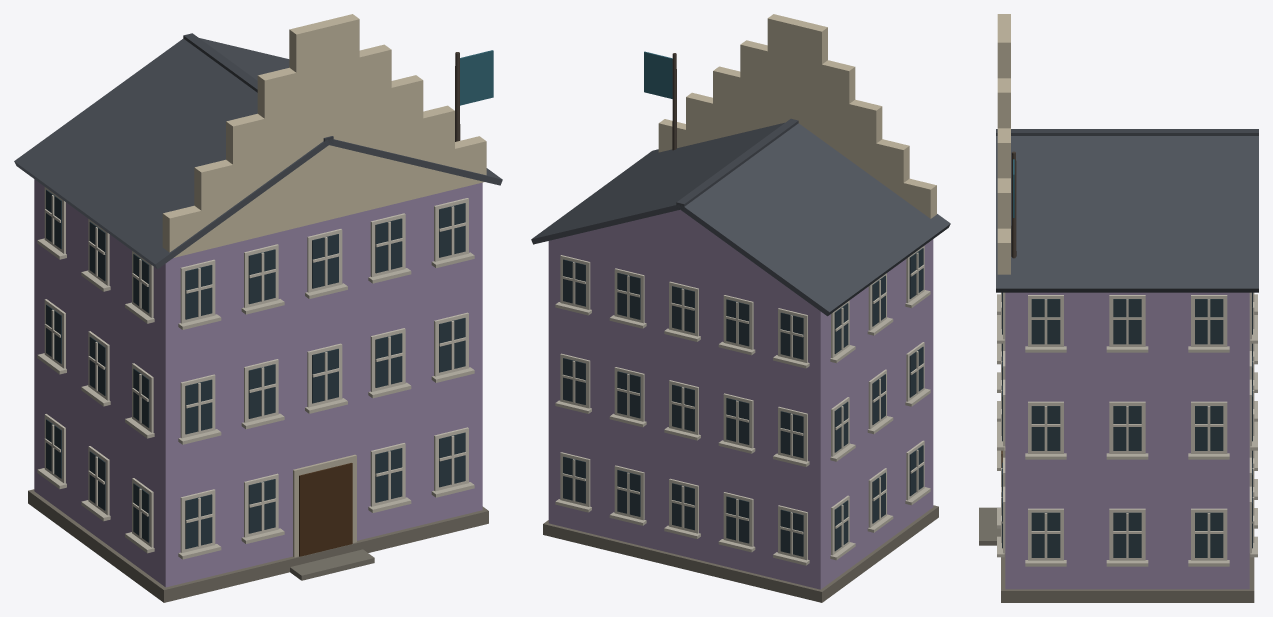
The model's file is procedural_guildhall@5.glb.
3 renders of one model, left to right at view 1: azimuth 30°, elevation 25°; view 2: azimuth 150°, elevation 25°; view 3: azimuth 270°, elevation 25°, orthographic. The views are drawn at different scales.
Parts seen in each view (by area): view 1: part_0; view 2: part_0; view 3: part_0.
Part boxes in pixels (x1,y1,x2,y2): part_0: (14, 14, 502, 602); part_0: (531, 14, 950, 602); part_0: (979, 14, 1258, 602).
Bounding box in the file's own units: 8.56 × 12.65 × 6.41.
